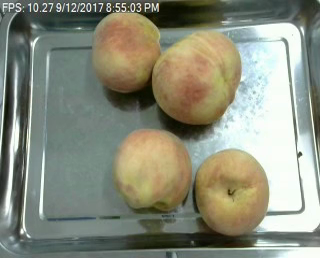Peach: (151, 29, 240, 124), (194, 148, 270, 236), (113, 128, 191, 211), (91, 10, 161, 92)
